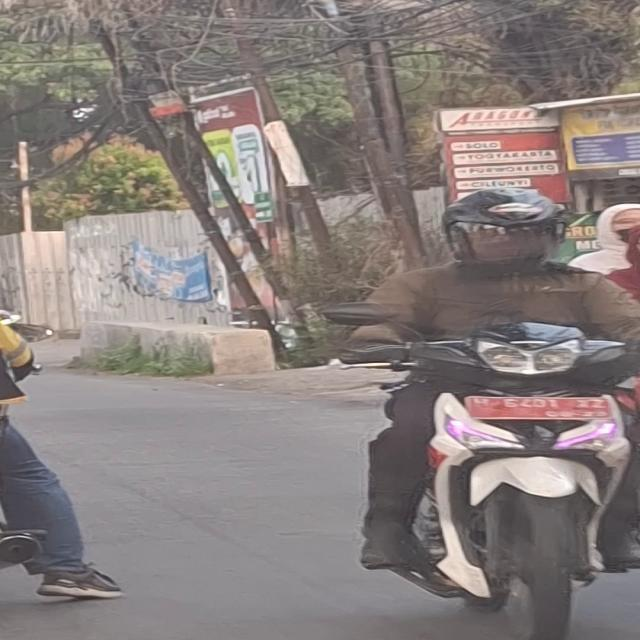WithHelmet: (345, 189, 640, 582)
